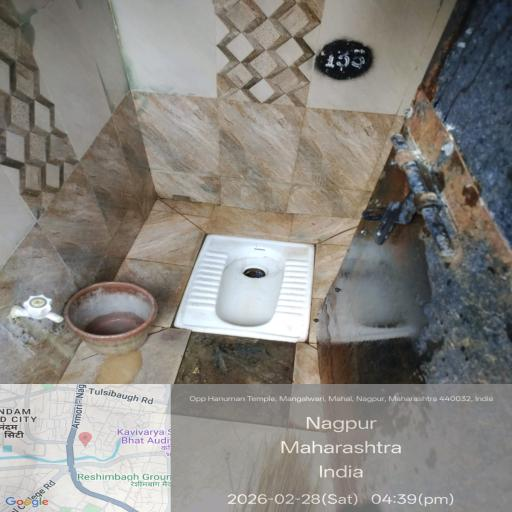clean_floor: (8, 11, 450, 226), (30, 350, 481, 512)
clean_indian: (175, 224, 346, 353)
